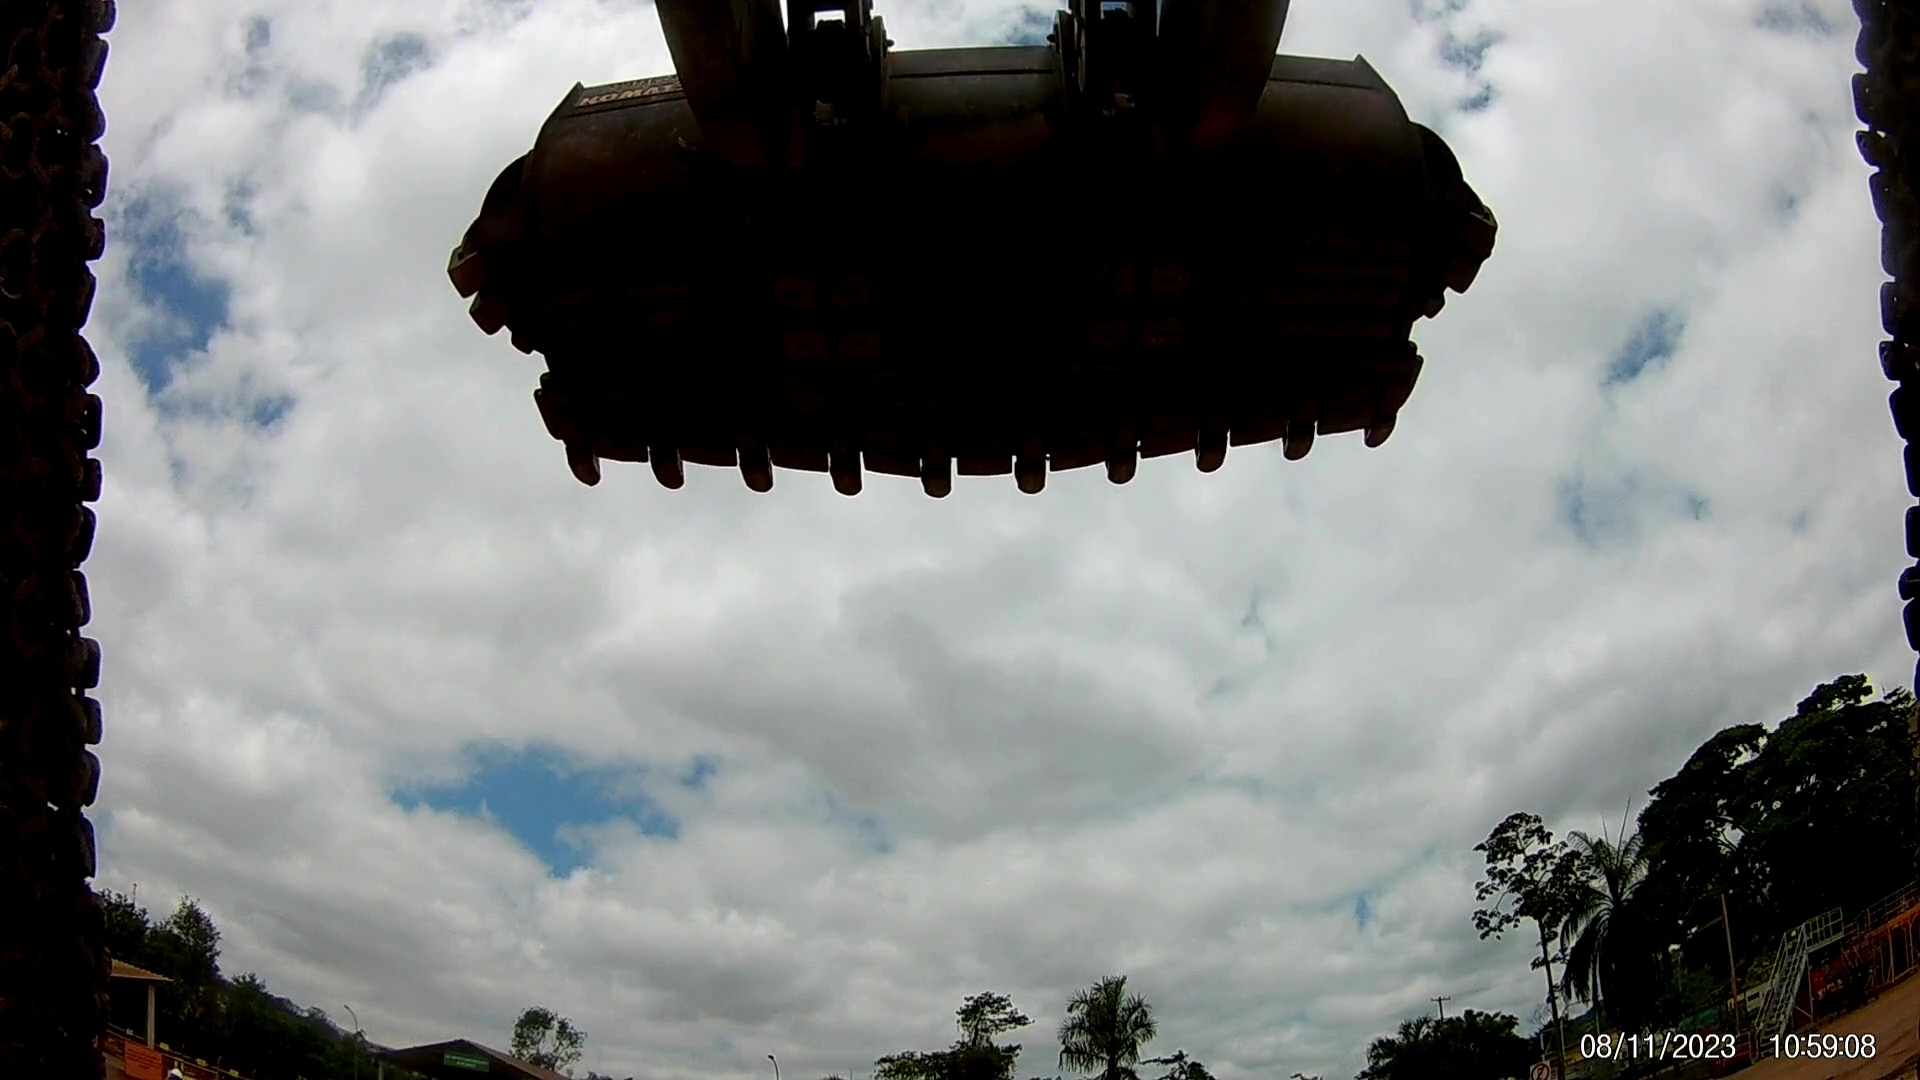FPS: (622, 444, 704, 510), (539, 444, 613, 505), (1004, 438, 1062, 510), (814, 450, 873, 510), (1101, 431, 1154, 493), (1356, 400, 1408, 460), (1189, 405, 1230, 481), (735, 450, 793, 500), (916, 454, 963, 516), (1280, 426, 1327, 473)
